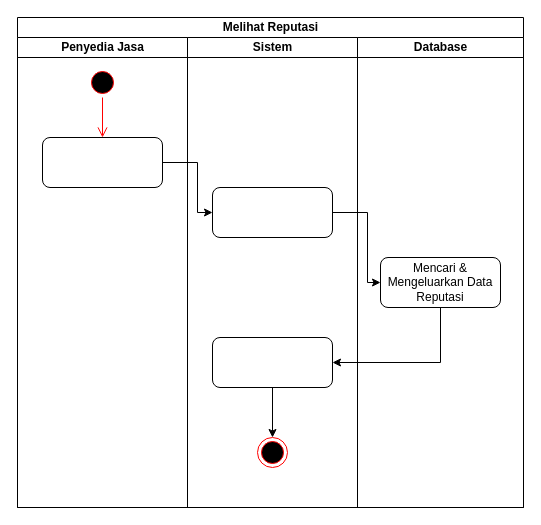
Some shapes in this 541 by 525 pixel diagram are drawn without their labels. The shapes that lost their labels are listed below. From the top down, each one's centre as x and y in pixels, then its label:
At pixel 102 162: "Memilih Menu Reputasi/Ulasan".
At pixel 272 212: "Meminta Data Reputasi Pekerja".
At pixel 272 362: "Menampilkan Data Rating & Ulasan".
